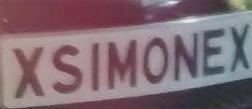0: (139, 33, 171, 90)
1: (82, 36, 109, 96)
E: (198, 23, 228, 82)
M: (103, 36, 139, 95)
N: (170, 28, 202, 86)
S: (47, 38, 87, 100)
X: (5, 40, 51, 106), (225, 21, 252, 77)
